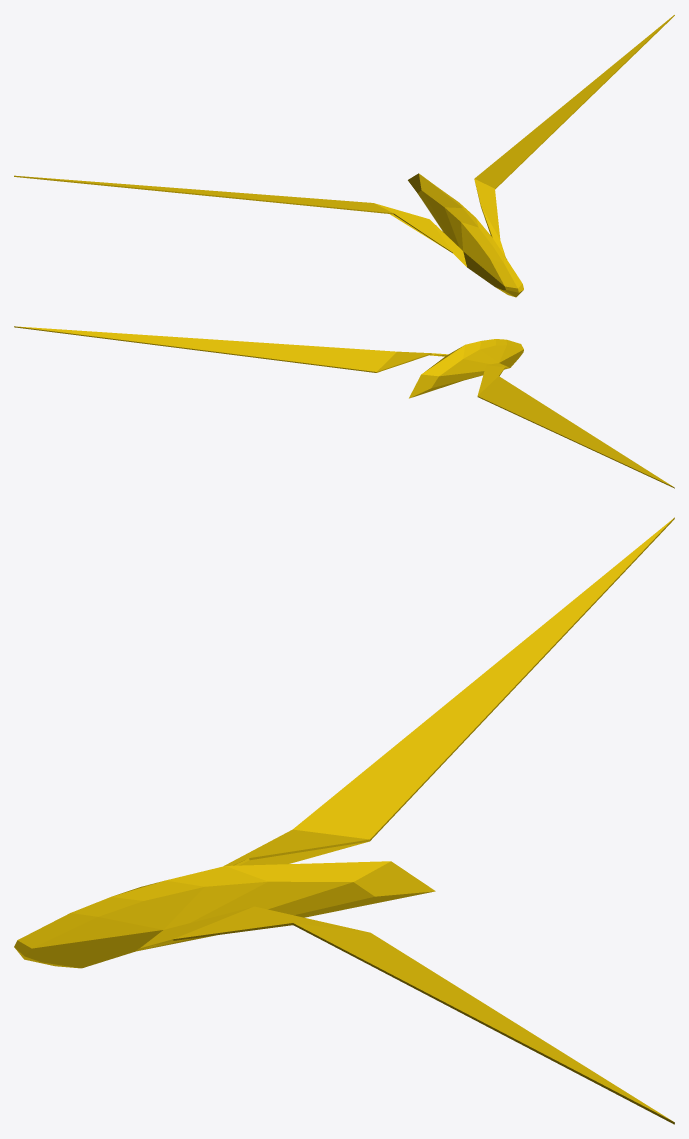
Rendered from CONCEPT 3.fbx.
3 views of the same model, one above another, from view 1: azimuth 30°, elevation 25°; view 2: azimuth 150°, elevation 25°; view 3: azimuth 270°, elevation 25° (orthographic). The views are drawn at different scales.
Parts seen in each view (by area): view 1: Plano; view 2: Plano; view 3: Plano.
Boxes of the visible parts, x1,y1,x2,y2 form: Plano: (14, 15, 674, 297); Plano: (14, 326, 674, 488); Plano: (14, 517, 674, 1124).
Bounding box in the file's own units: 11982 × 1364 × 5527.
